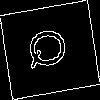Q: (25, 24, 76, 71)
